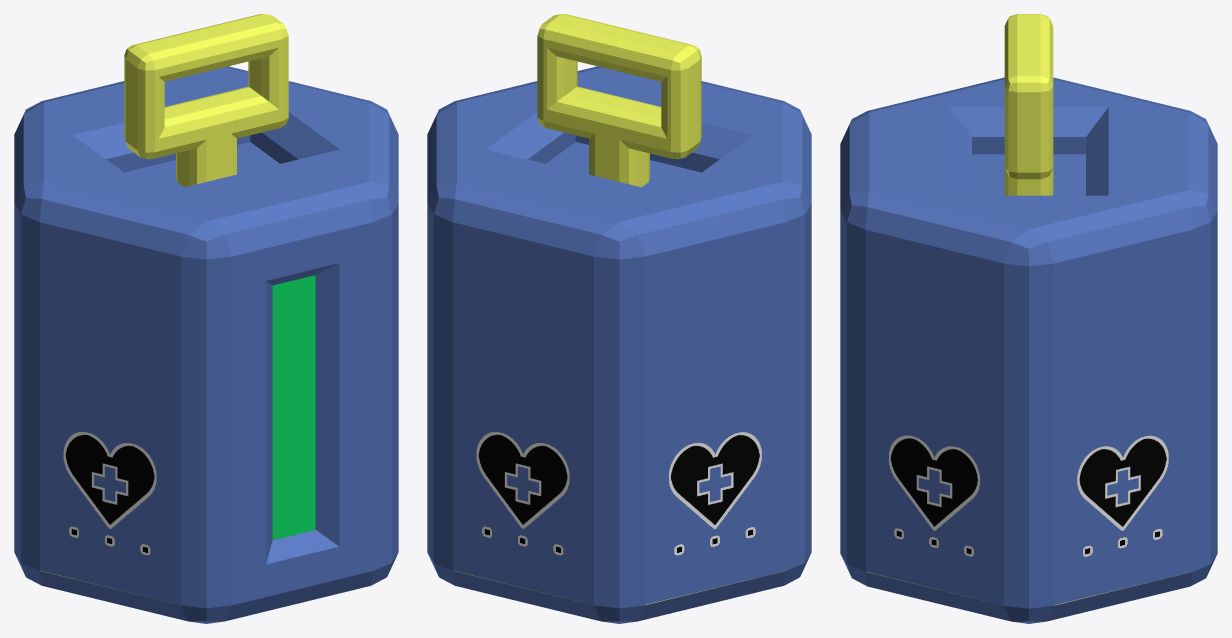
The model's file is HealItem.gltf.
The picture shows the model from 3 angles, left to right: view 1: azimuth 30°, elevation 25°; view 2: azimuth 150°, elevation 25°; view 3: azimuth 270°, elevation 25°; orthographic projection.
Parts seen in each view (by area): view 1: HealItem, HealGauge; view 2: HealItem; view 3: HealItem.
Part boxes in pixels (x1,y1,x2,y2): HealItem: [14, 14, 398, 623]; HealGauge: [272, 275, 315, 539]; HealItem: [427, 14, 811, 623]; HealItem: [840, 14, 1217, 623].
Size of the model in its own units: 0.251 by 0.33 by 0.2252.
Materials: 2 (1 with a texture image).
